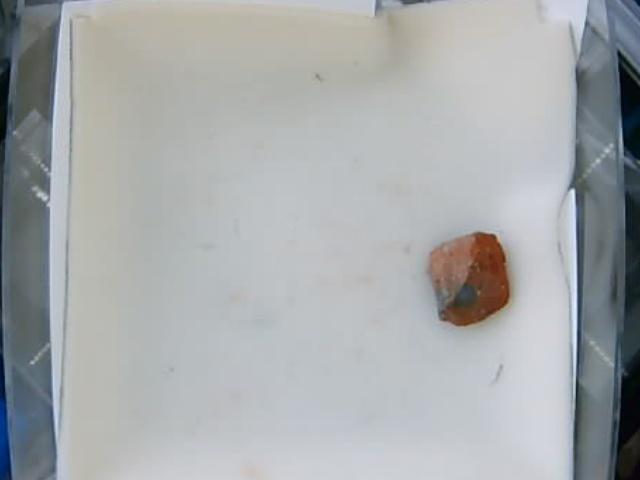Brisk: (428, 231, 509, 321)
